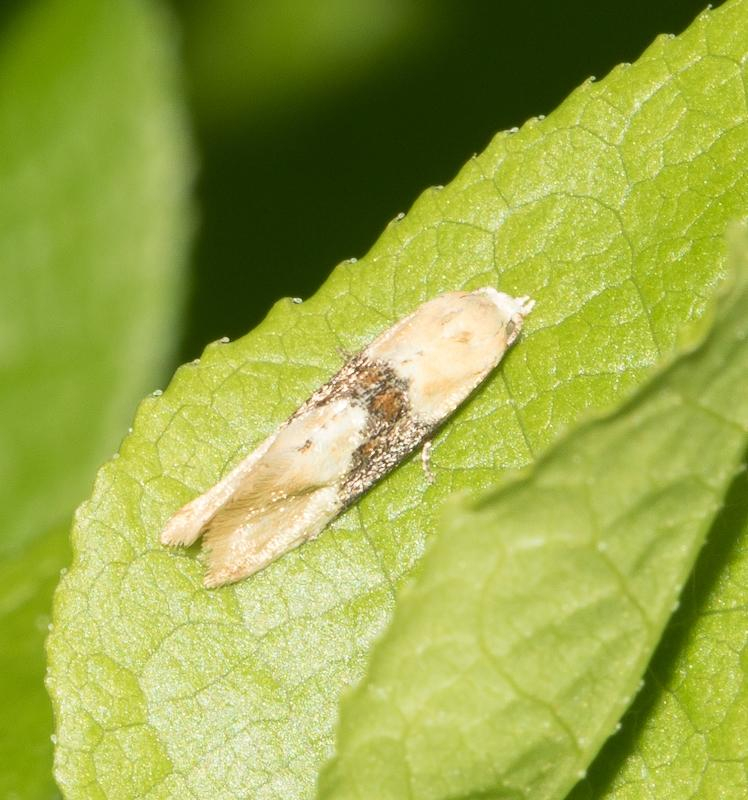Eupoecilia Ambiguella: (157, 282, 536, 592)
